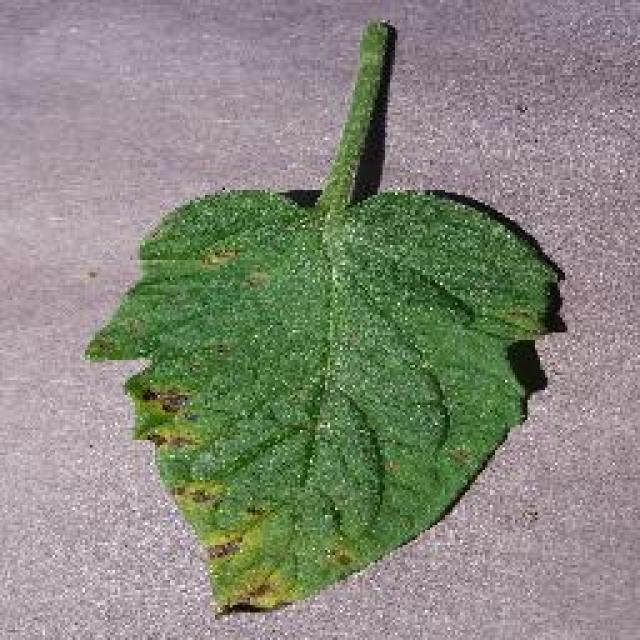Tomato___Septoria_leaf_spot: (85, 22, 555, 610)
